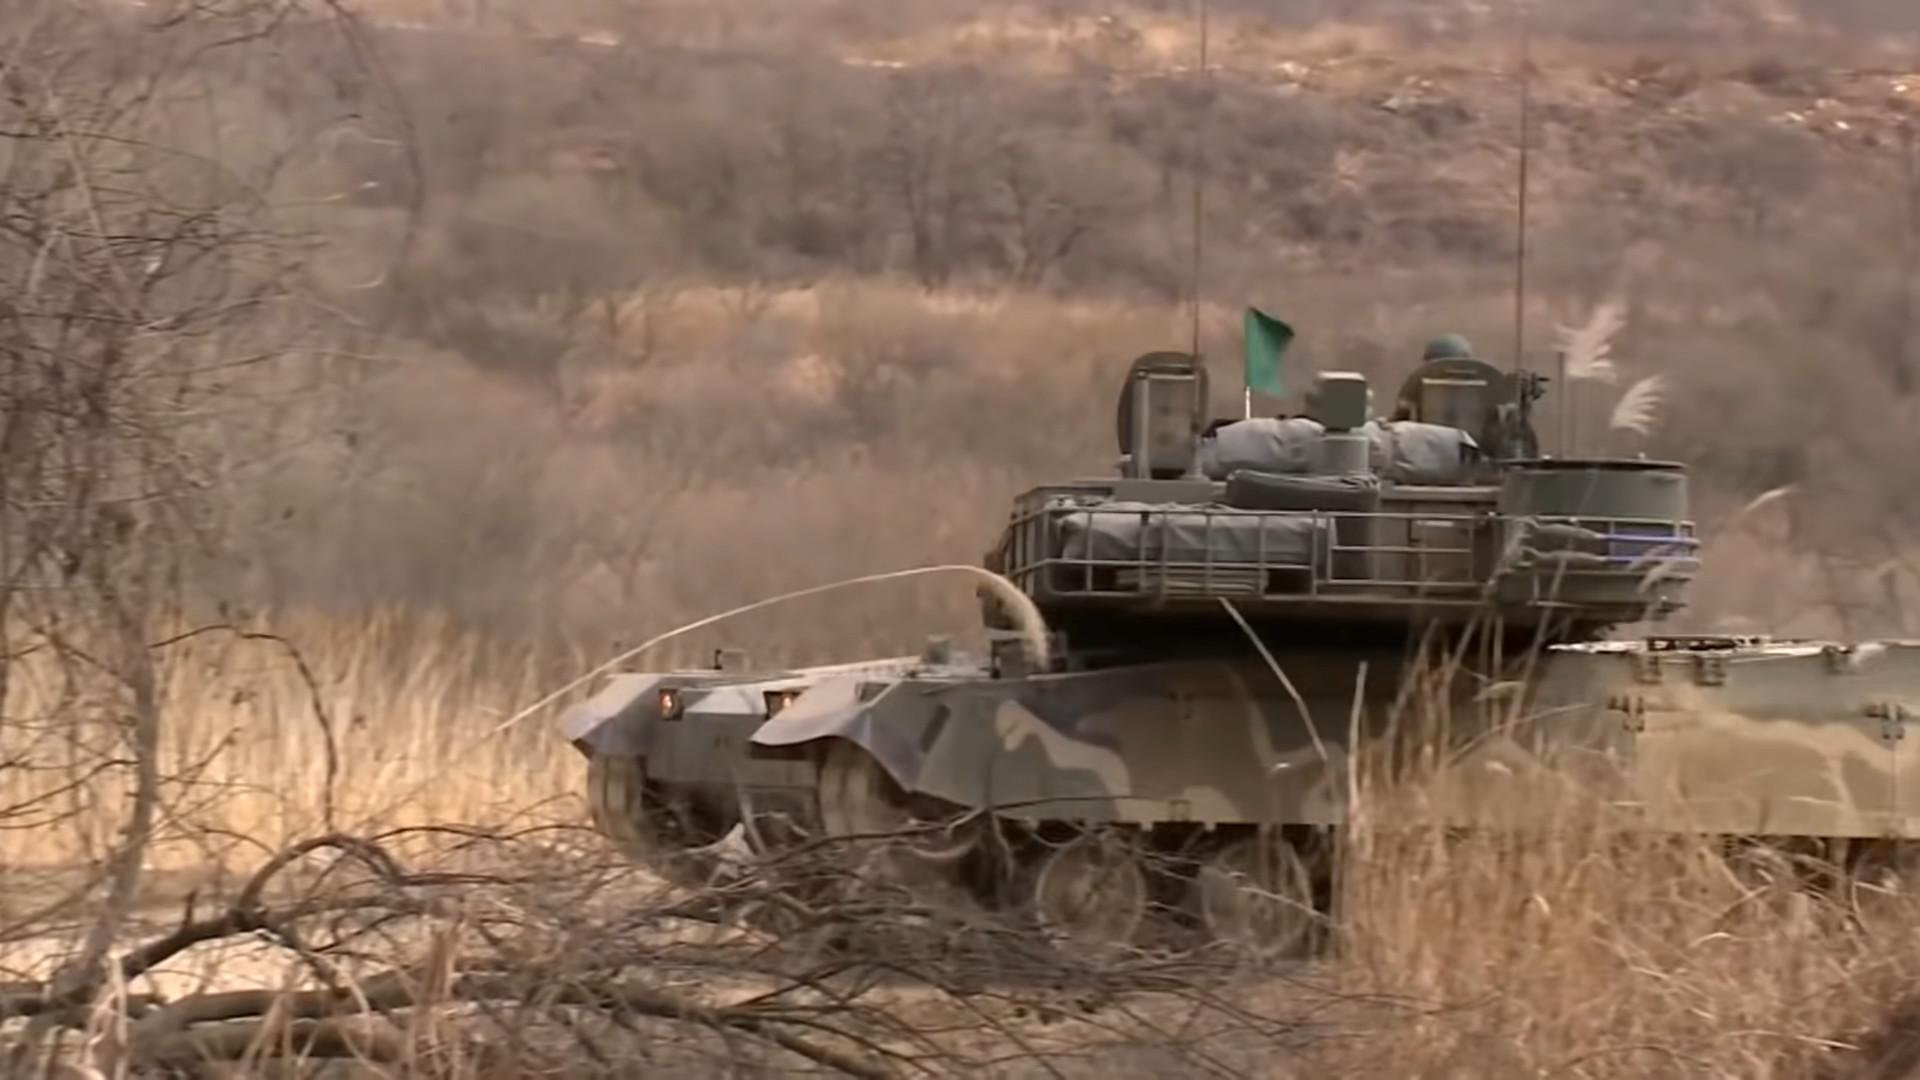tank: (541, 344, 1917, 990)
